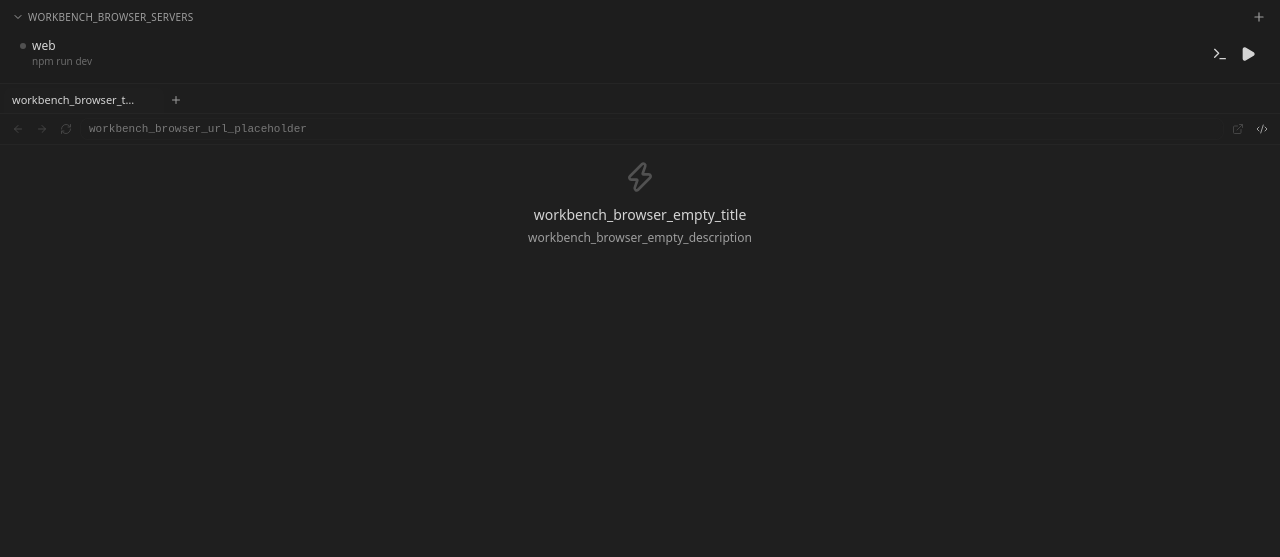
Test: BrowserTab — console inline, não popup › painel do console renderiza dentro do container da própria aba, não num portal/dialog em document.body
The width and height of the screenshot is (1280, 557).
Click the button titled "workbench_browser_console": click(1220, 54) [1208,42,1232,66]
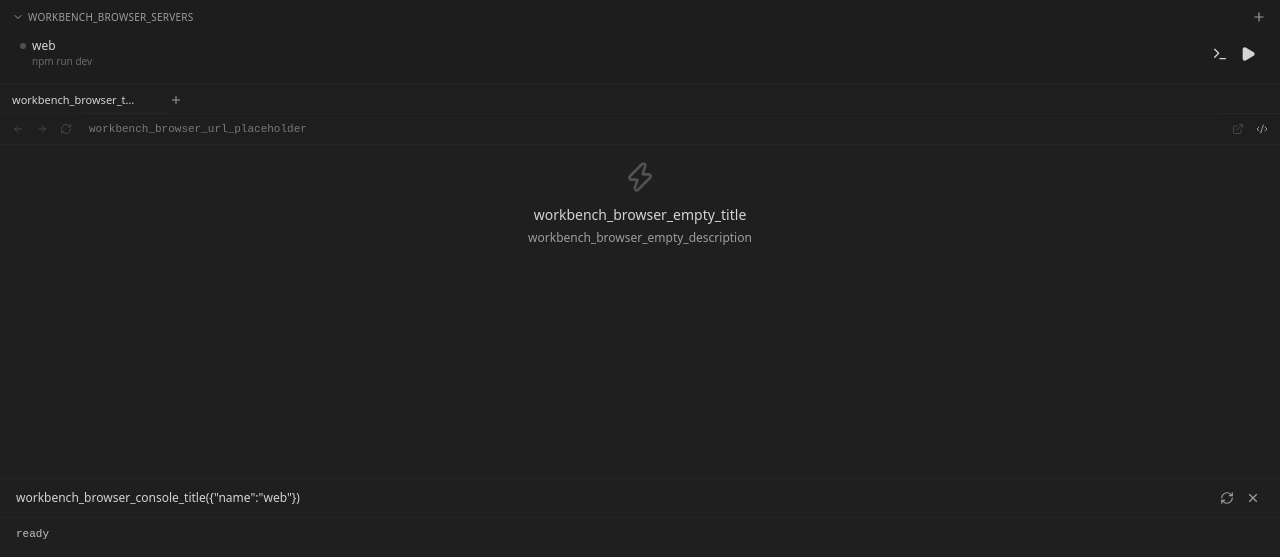
Check: the text "ready" is shown, box [16,528,49,540]
